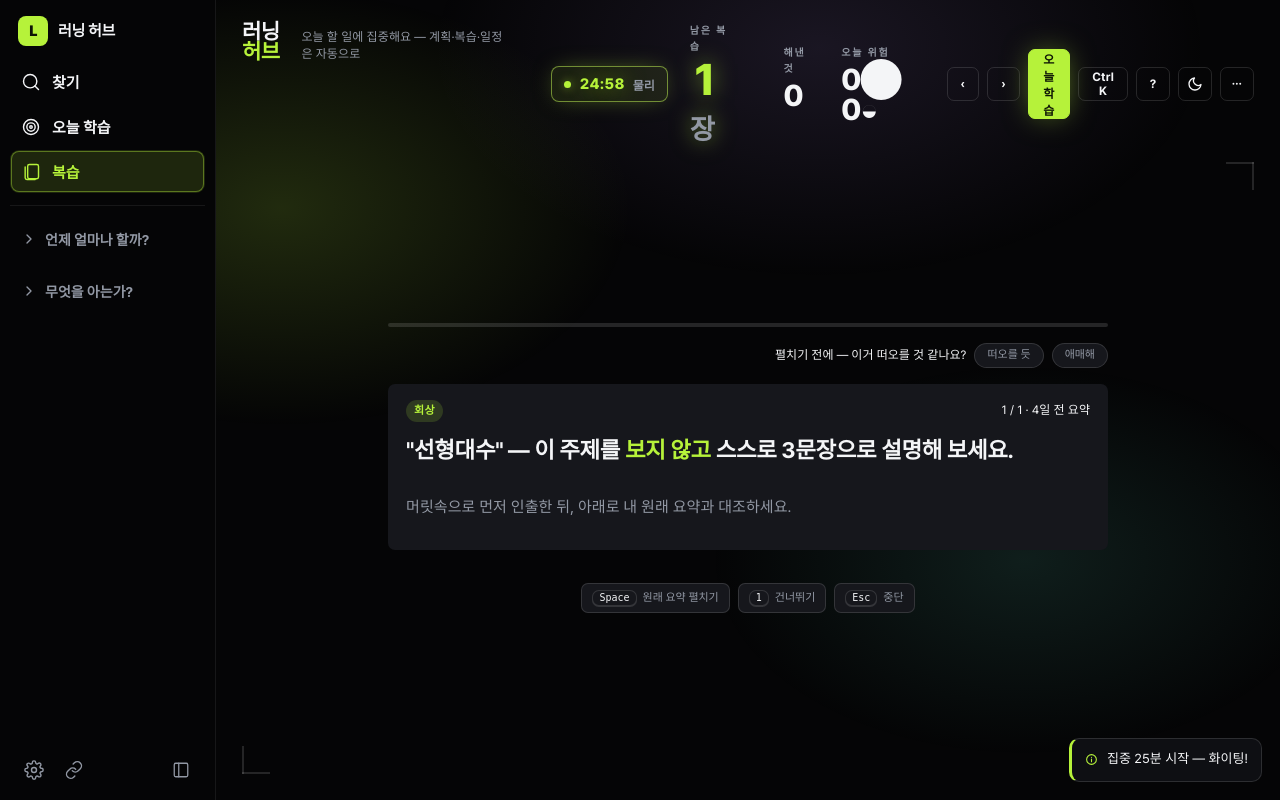
Test: review-run: 과신 카드가 완주 화면에 이름으로 선다
The width and height of the screenshot is (1280, 800).
Expected: the text "회상" is shown, [406,400,443,422]
Click the button "떠오를 듯" at coordinates (1009, 355), box [974,343,1044,368]
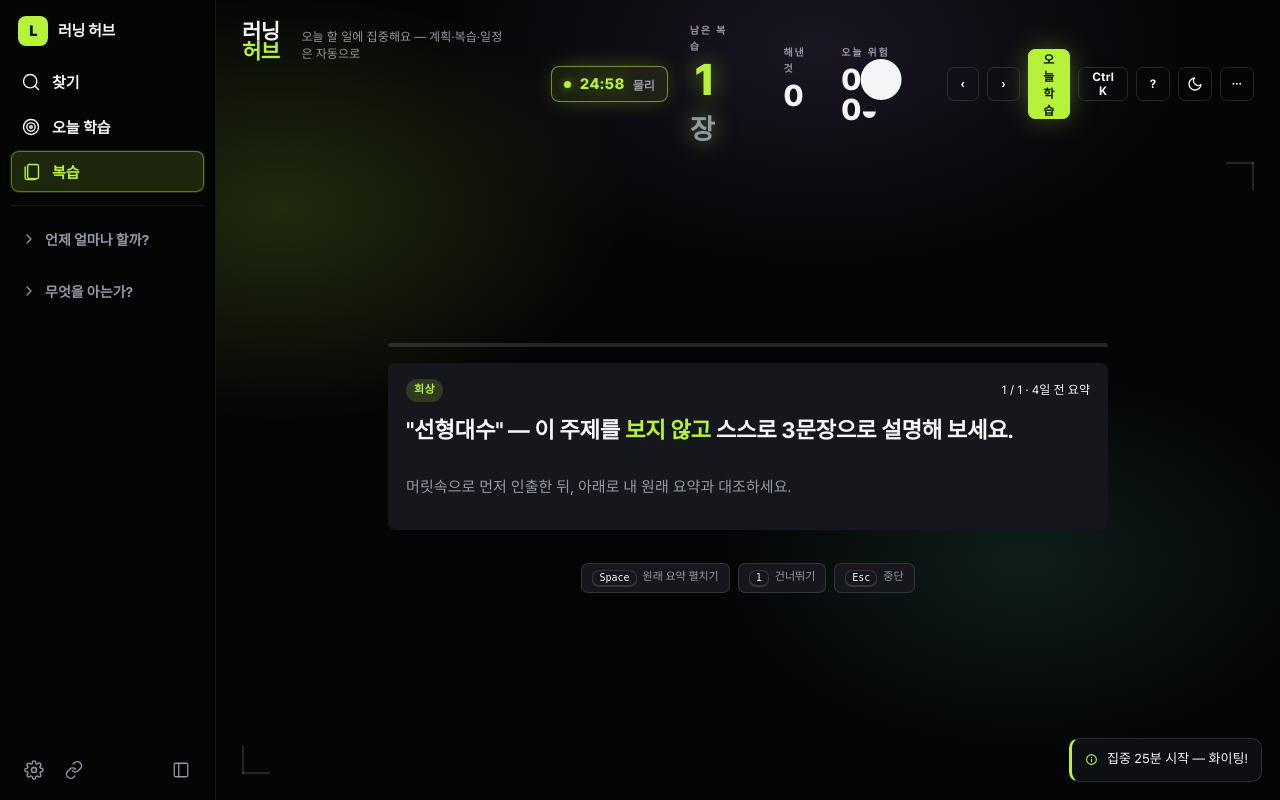
Press 1
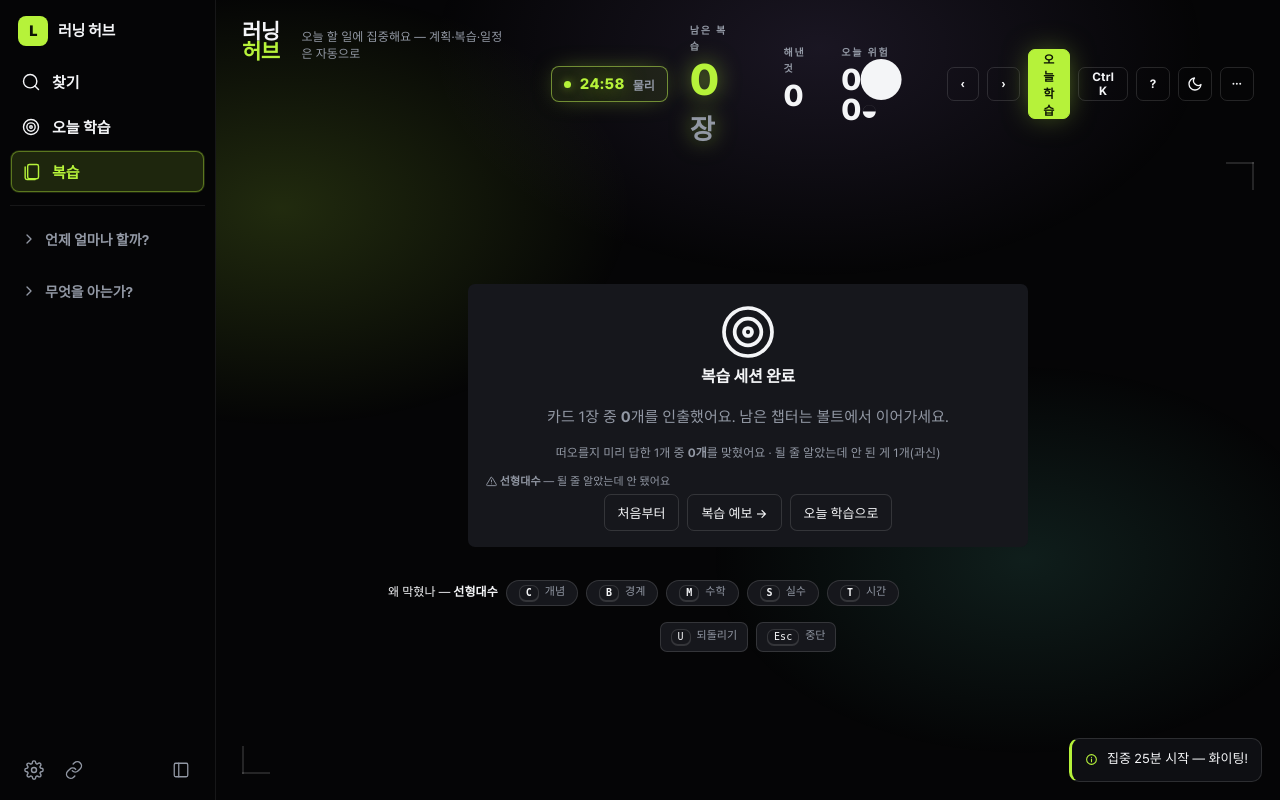
Result: the heading "복습 세션 완료" is shown at [701,367,795,386]
Result: the text "선형대수" next to "— 될 줄 알았는데 안 됐어요" is shown at [500,475,541,488]
